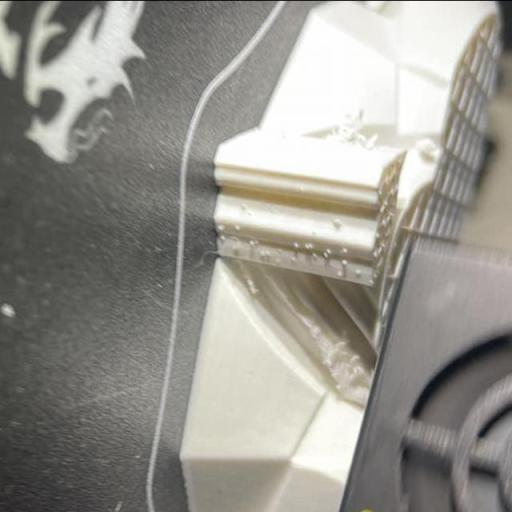blobs: (330, 214, 343, 230), (246, 235, 258, 250), (230, 220, 242, 232), (260, 248, 274, 258), (338, 257, 350, 268), (321, 249, 333, 260), (304, 242, 317, 252), (214, 222, 228, 231), (290, 238, 301, 249), (335, 268, 346, 278), (288, 254, 299, 264), (340, 244, 350, 254), (354, 267, 363, 277), (218, 234, 226, 240)
